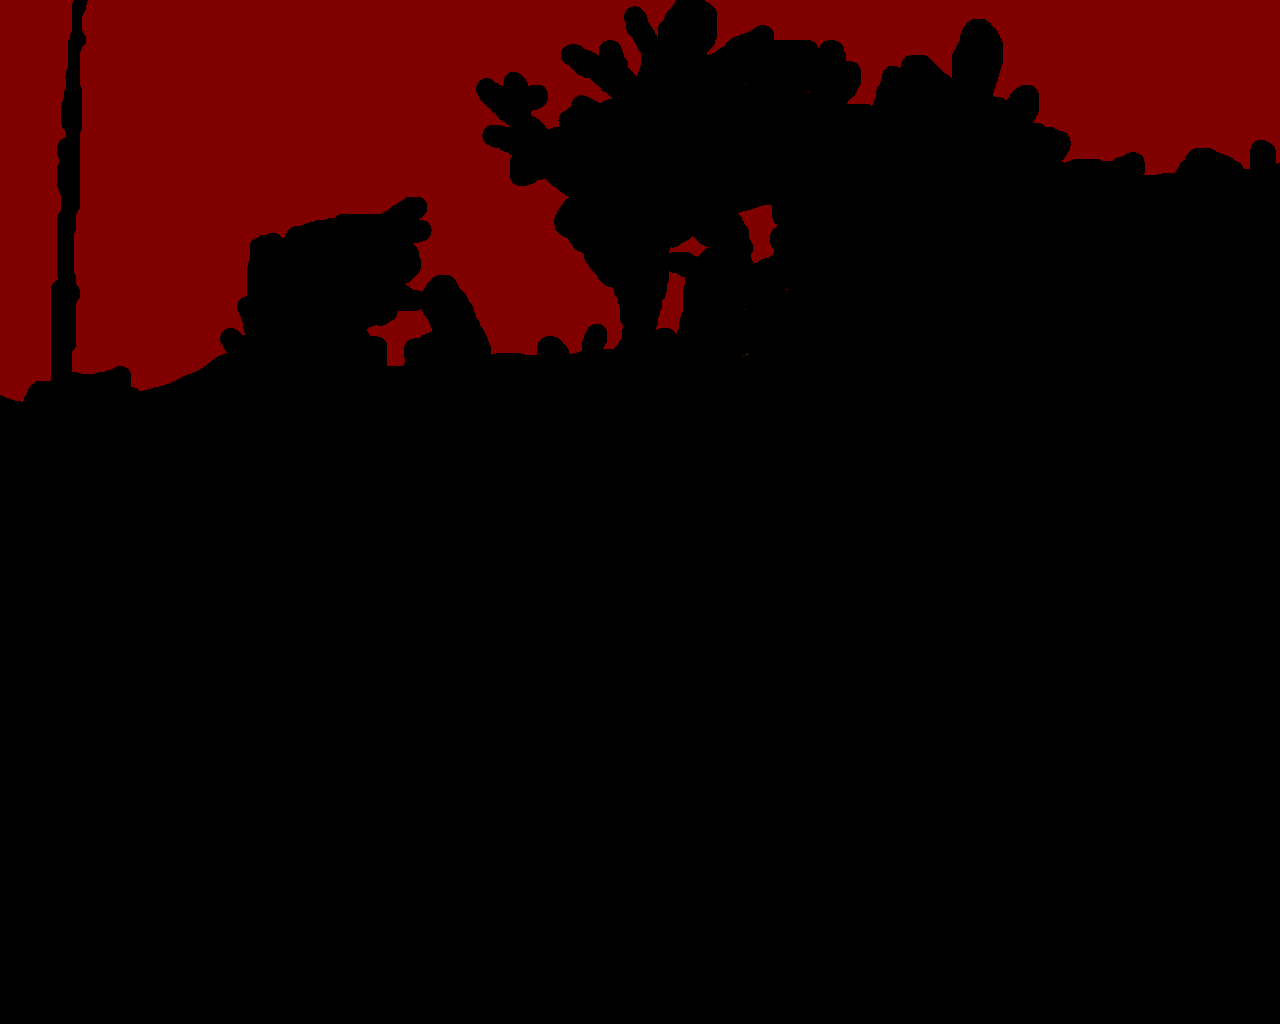Sky: (1, 1, 1279, 402)
